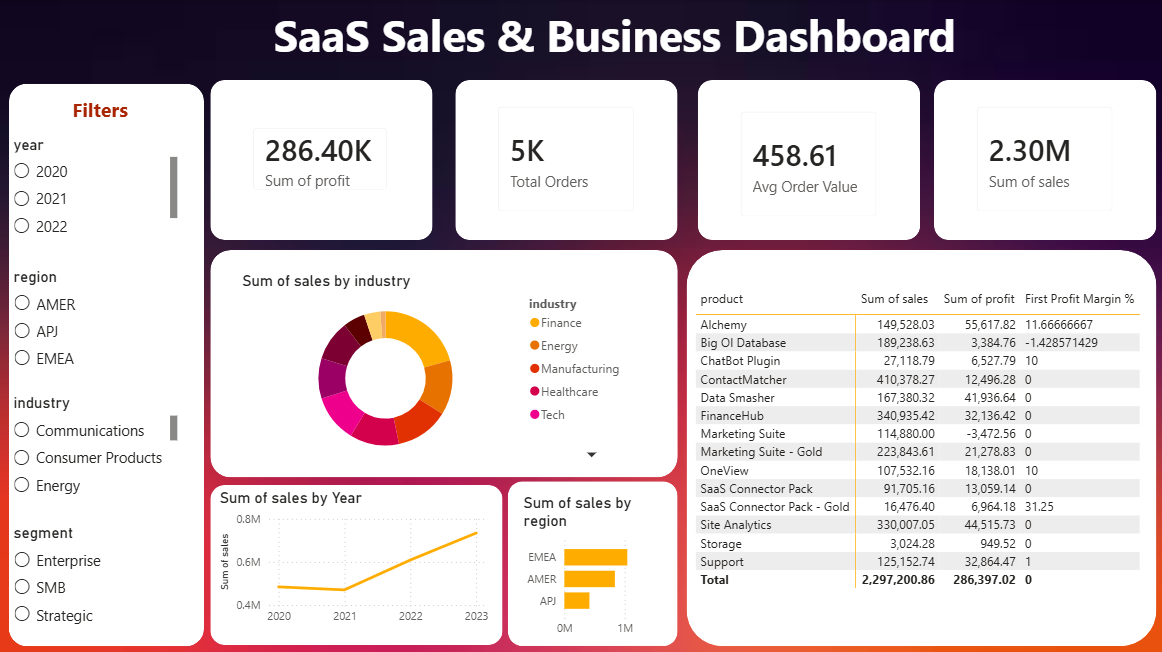

The dashboard page shown, as its layout file describes it:
{"tool":"powerbi","page":{"name":"Page 1","canvas":[1280,720],"ordinal":0},"visuals":[{"type":"shape","box":[231.9,87.8,244.3,175.6],"z":0},{"type":"shape","box":[558.5,528.3,186.6,181.1],"z":1000},{"type":"shape","box":[231.9,532.4,321.1,175.6],"z":2000},{"type":"shape","box":[231.9,274.4,513.2,249.7],"z":3000},{"type":"shape","box":[1026.4,87.8,244.3,175.6],"z":4000},{"type":"shape","box":[500.9,87.8,244.3,175.6],"z":5000},{"type":"cardVisual","fields":{"Data":["Sum(saas_clean.sales)"]},"box":[1056.6,100.2,183.9,149.6],"z":6000},{"type":"cardVisual","fields":{"Data":["Sum(saas_clean.profit)"]},"box":[262.1,123.5,181.1,102.9],"z":7000},{"type":"shape","box":[11,91.9,214.1,617.5],"z":8000},{"type":"cardVisual","fields":{"Data":["saas_clean.Total Orders"]},"box":[531,100.2,183.9,149.6],"z":9000},{"type":"lineChart","fields":{"Category":["saas_clean.year_month.Variation.Date Hierarchy.Year","saas_clean.year_month.Variation.Date Hierarchy.Quarter","saas_clean.year_month.Variation.Date Hierarchy.Month","saas_clean.year_month.Variation.Date Hierarchy.Day"],"Y":["Sum(saas_clean.sales)"]},"box":[237.4,536.5,304.6,157.8],"z":10000},{"type":"barChart","fields":{"Category":["saas_clean.region"],"Y":["Sum(saas_clean.sales)"]},"box":[570.8,542,163.3,166],"z":11000},{"type":"clusteredBarChart","fields":{"Category":["saas_clean.product"],"Y":["Sum(saas_clean.sales)"]},"box":[542,321.1,163.3,166],"z":12000},{"type":"donutChart","fields":{"Category":["saas_clean.industry"],"Y":["Sum(saas_clean.sales)"]},"box":[262.1,293.7,459.7,218.2],"z":13000},{"type":"shape","box":[754.7,274.4,516,435],"z":14000},{"type":"pivotTable","fields":{"Rows":["saas_clean.product"],"Values":["Sum(saas_clean.sales)","Sum(saas_clean.profit)","Min(saas_clean.Profit Margin %)"]},"box":[760.2,311.5,502.2,351.3],"z":15000},{"type":"listSlicer","fields":{"Values":["saas_clean.year"]},"box":[11,148.2,190,119.4],"z":16000},{"type":"listSlicer","fields":{"Values":["saas_clean.region"]},"box":[11,293.7,190,119.4],"z":17000},{"type":"listSlicer","fields":{"Values":["saas_clean.industry"]},"box":[11,432.2,190,119.4],"z":18000},{"type":"shape","box":[767.1,87.8,244.3,175.6],"z":19000},{"type":"listSlicer","fields":{"Values":["saas_clean.segment"]},"box":[11,575,190,119.4],"z":20000},{"type":"cardVisual","fields":{"Data":["saas_clean.Avg Order Value"]},"box":[797.3,105.7,183.9,149.6],"z":21000},{"type":"textbox","box":[262.1,0,827.4,78.2],"z":22000},{"type":"textbox","box":[11,100.2,200.3,48],"z":23000}]}

Visuals, with their boxes in screenshot pixels (x1, y1, x2, y2), scaled from the page's 1280x720 canvas onto the 1162x652 screenshot:
shape: l=211, t=80, r=432, b=239
shape: l=507, t=478, r=676, b=642
shape: l=211, t=482, r=502, b=641
shape: l=211, t=248, r=676, b=475
shape: l=932, t=80, r=1154, b=239
shape: l=455, t=80, r=677, b=239
cardVisual - Sum(saas_clean.sales): l=959, t=91, r=1126, b=226
cardVisual - Sum(saas_clean.profit): l=238, t=112, r=402, b=205
shape: l=10, t=83, r=204, b=642
cardVisual - saas_clean.Total Orders: l=482, t=91, r=649, b=226
lineChart - saas_clean.year_month.Variation.Date Hierarchy.Year x saas_clean.year_month.Variation.Date Hierarchy.Quarter: l=216, t=486, r=492, b=629
barChart - saas_clean.region x Sum(saas_clean.sales): l=518, t=491, r=666, b=641
clusteredBarChart - saas_clean.product x Sum(saas_clean.sales): l=492, t=291, r=640, b=441
donutChart - saas_clean.industry x Sum(saas_clean.sales): l=238, t=266, r=655, b=464
shape: l=685, t=248, r=1154, b=642
pivotTable - saas_clean.product x Sum(saas_clean.sales): l=690, t=282, r=1146, b=600
listSlicer - saas_clean.year: l=10, t=134, r=182, b=242
listSlicer - saas_clean.region: l=10, t=266, r=182, b=374
listSlicer - saas_clean.industry: l=10, t=391, r=182, b=500
shape: l=696, t=80, r=918, b=239
listSlicer - saas_clean.segment: l=10, t=521, r=182, b=629
cardVisual - saas_clean.Avg Order Value: l=724, t=96, r=891, b=231
textbox: l=238, t=0, r=989, b=71
textbox: l=10, t=91, r=192, b=134
